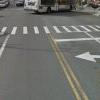Crosswalk: (0, 16, 98, 45)
